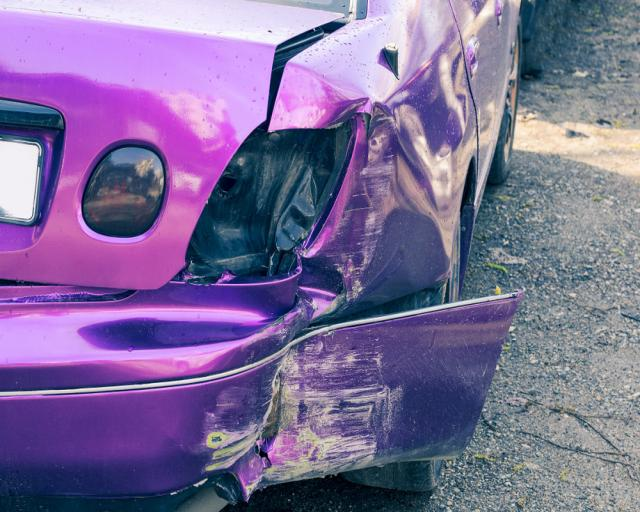crack: (254, 444, 273, 467)
scratch: (200, 334, 396, 495), (308, 104, 395, 298)
